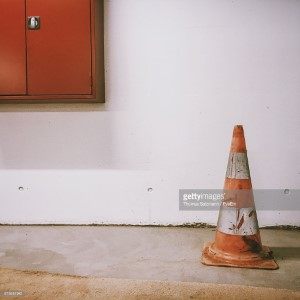traffic cone: (201, 125, 279, 270)
